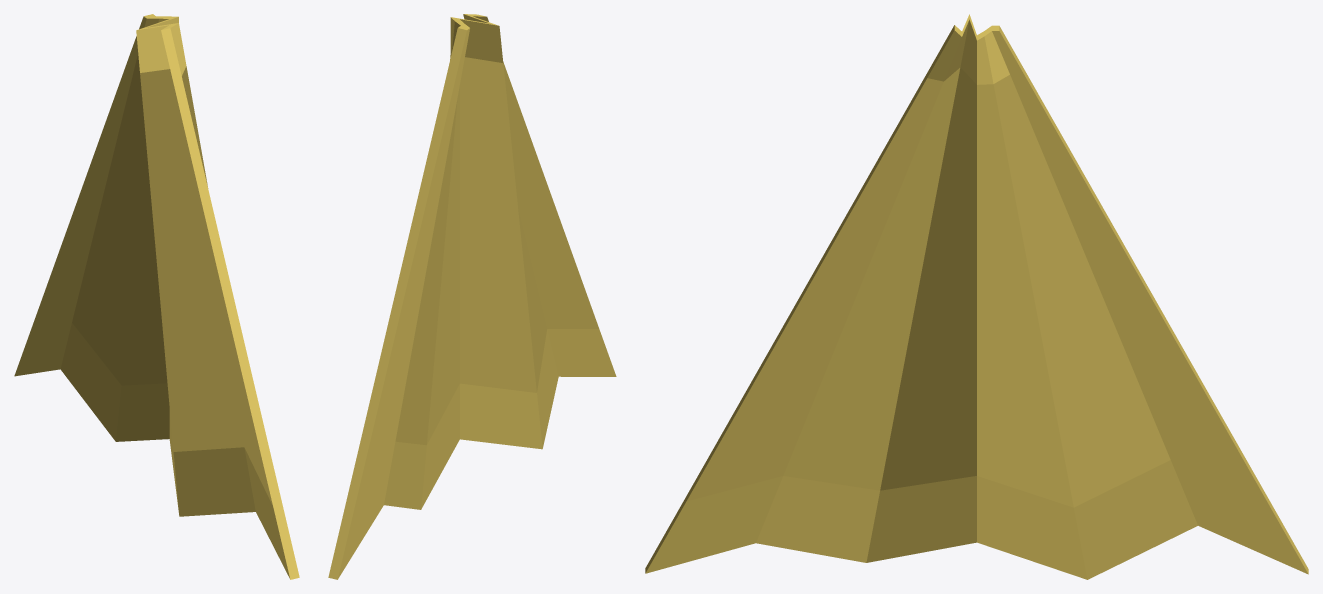
File: ParticlePencil.fbx
3 renders of one model, left to right at view 1: azimuth 30°, elevation 25°; view 2: azimuth 150°, elevation 25°; view 3: azimuth 270°, elevation 25°, orthographic. The views are drawn at different scales.
Parts seen in each view (by area): view 1: Plane; view 2: Plane; view 3: Plane.
Boxes of the visible parts, x1,y1,x2,y2 form: Plane: (14, 14, 299, 579); Plane: (328, 14, 616, 579); Plane: (645, 14, 1308, 579).
Bounding box in the file's own units: 8171 × 77496 × 85714.
